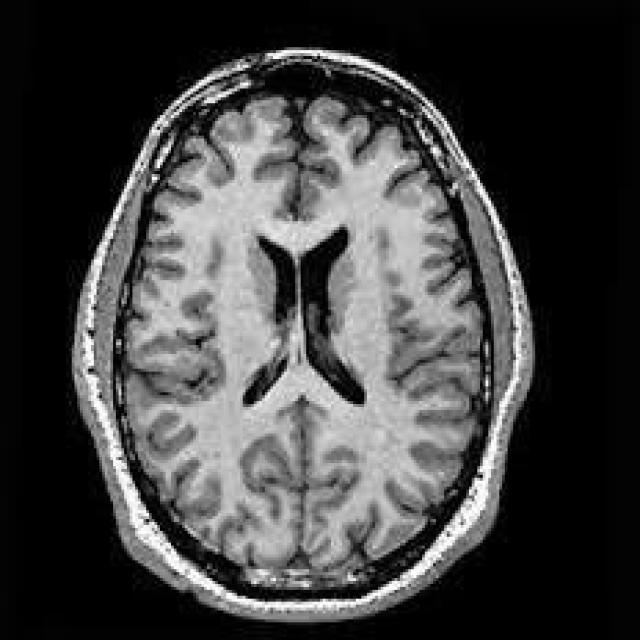notumor: (72, 50, 530, 619)
